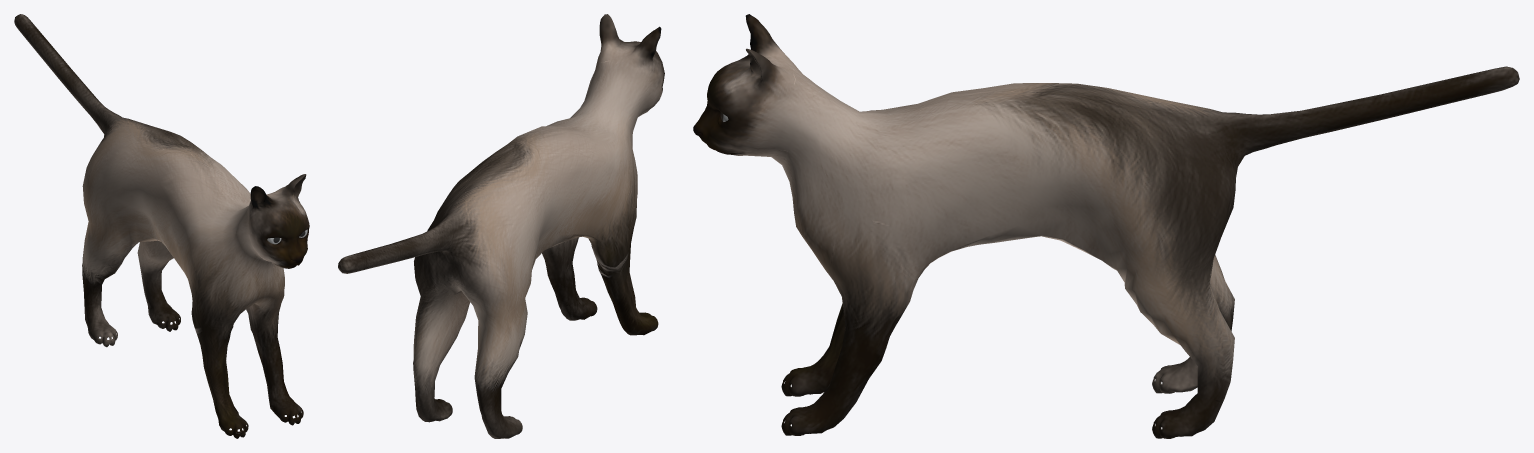
Rendered from cat-siamese.gltf.
3 renders of one model, left to right at view 1: azimuth 30°, elevation 25°; view 2: azimuth 150°, elevation 25°; view 3: azimuth 270°, elevation 25°, orthographic. The views are drawn at different scales.
Parts seen in each view (by area): view 1: cat_body; view 2: cat_body; view 3: cat_body.
Part boxes in pixels (bbox=[...]): cat_body: bbox=[14, 14, 309, 438]; cat_body: bbox=[338, 14, 664, 438]; cat_body: bbox=[693, 14, 1519, 438].
Bounding box in the file's own units: 8.93 × 25.85 × 50.7.
